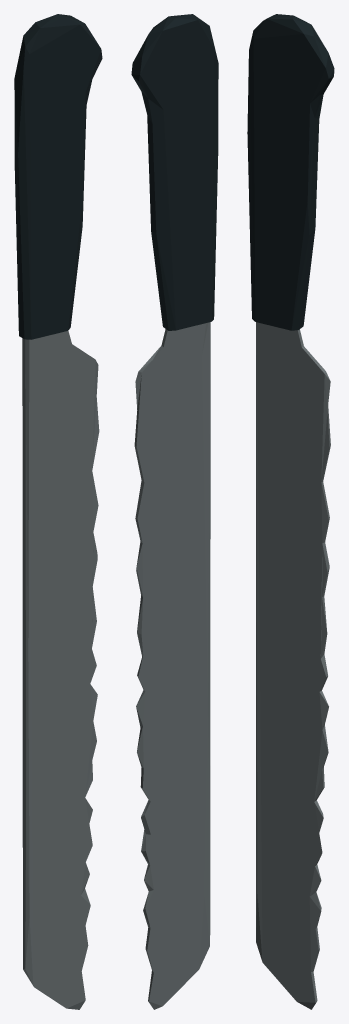
File: Knife05.fbx
3 views of the same model, side by side, from view 1: azimuth 30°, elevation 25°; view 2: azimuth 210°, elevation 25°; view 3: azimuth 330°, elevation 25° (orthographic).
Visible parts, largest first — view 1: Knife05LowPoly; view 2: Knife05LowPoly; view 3: Knife05LowPoly.
Part boxes in pixels (bbox=[...]): Knife05LowPoly: bbox=[14, 14, 102, 1009]; Knife05LowPoly: bbox=[131, 14, 218, 1009]; Knife05LowPoly: bbox=[247, 14, 334, 1009].
Size of the model in its own units: 2.94 by 33.64 by 0.5666.
